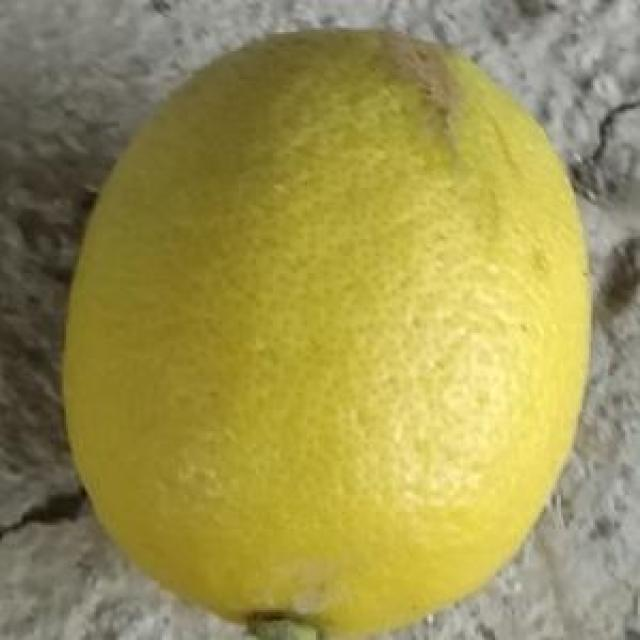lemon: (55, 21, 594, 640)
